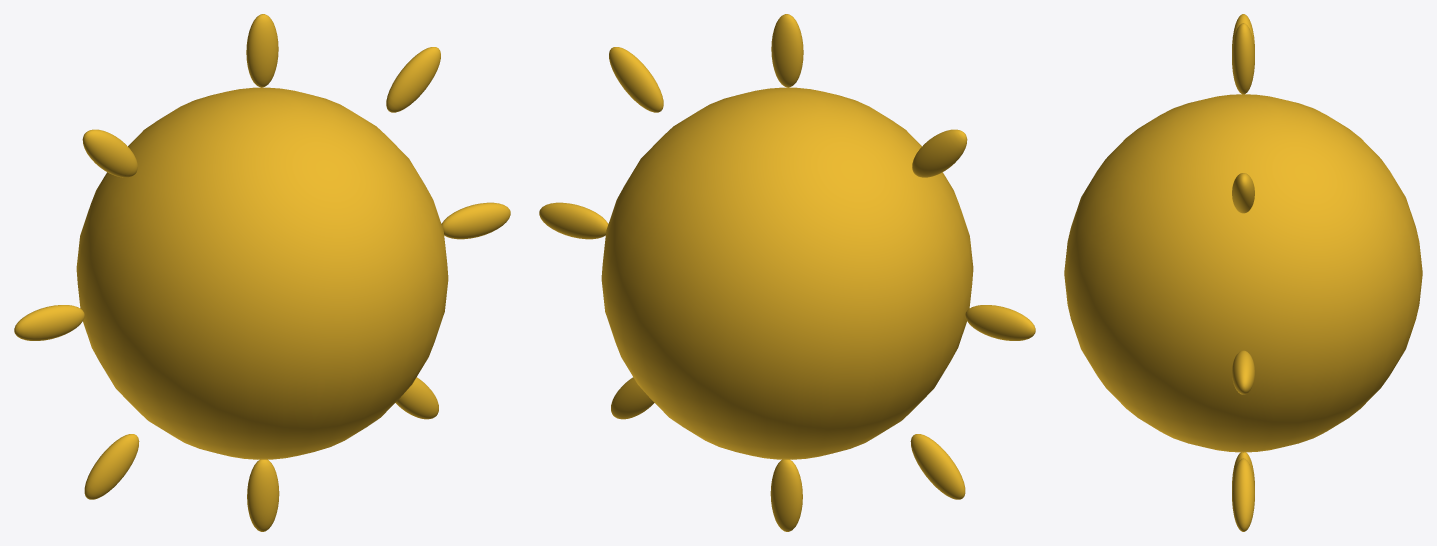
The model's file is clear.dae.
The picture shows the model from 3 angles, left to right: view 1: azimuth 30°, elevation 25°; view 2: azimuth 150°, elevation 25°; view 3: azimuth 270°, elevation 25°; orthographic projection. The views are drawn at different scales.
Visible parts, largest first — view 1: Sphere; view 2: Sphere; view 3: Sphere.
Boxes of the visible parts, x1,y1,x2,y2 form: Sphere: (14, 14, 510, 531); Sphere: (539, 14, 1035, 531); Sphere: (1064, 14, 1422, 531).
Bounding box in the file's own units: 2.2 × 1.43 × 2.2.
